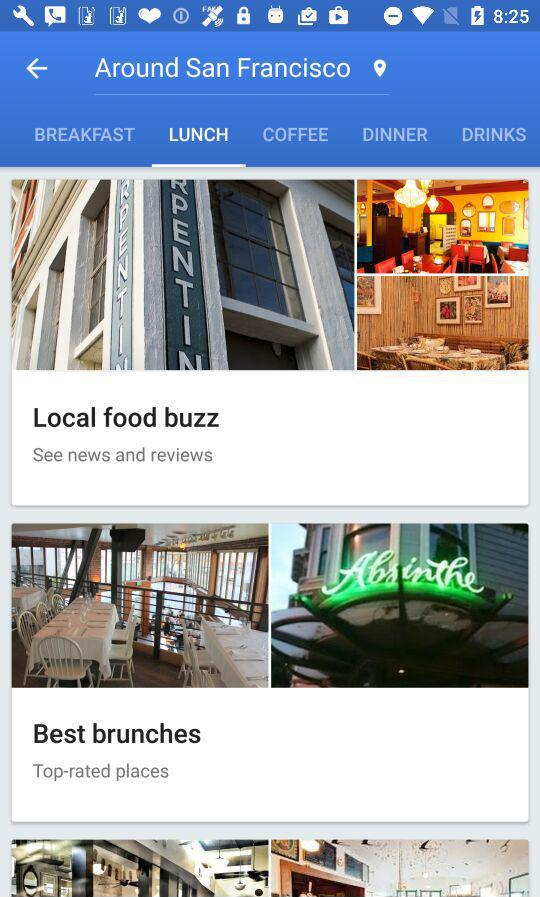Card: (12, 180, 529, 507), (12, 523, 529, 823)
Icon: (26, 58, 49, 81), (373, 60, 387, 79)
Image: (13, 180, 355, 371), (272, 523, 529, 688), (12, 523, 269, 688), (357, 277, 528, 371), (358, 180, 529, 274), (272, 839, 530, 897), (12, 839, 270, 897)
Text: (95, 57, 351, 79), (34, 406, 220, 428), (34, 722, 202, 744), (34, 446, 214, 462), (33, 762, 170, 782), (35, 128, 136, 143), (362, 128, 429, 143), (462, 128, 526, 143), (263, 129, 329, 143), (170, 128, 229, 143)
UpperTaskBar: (1, 1, 540, 33)
